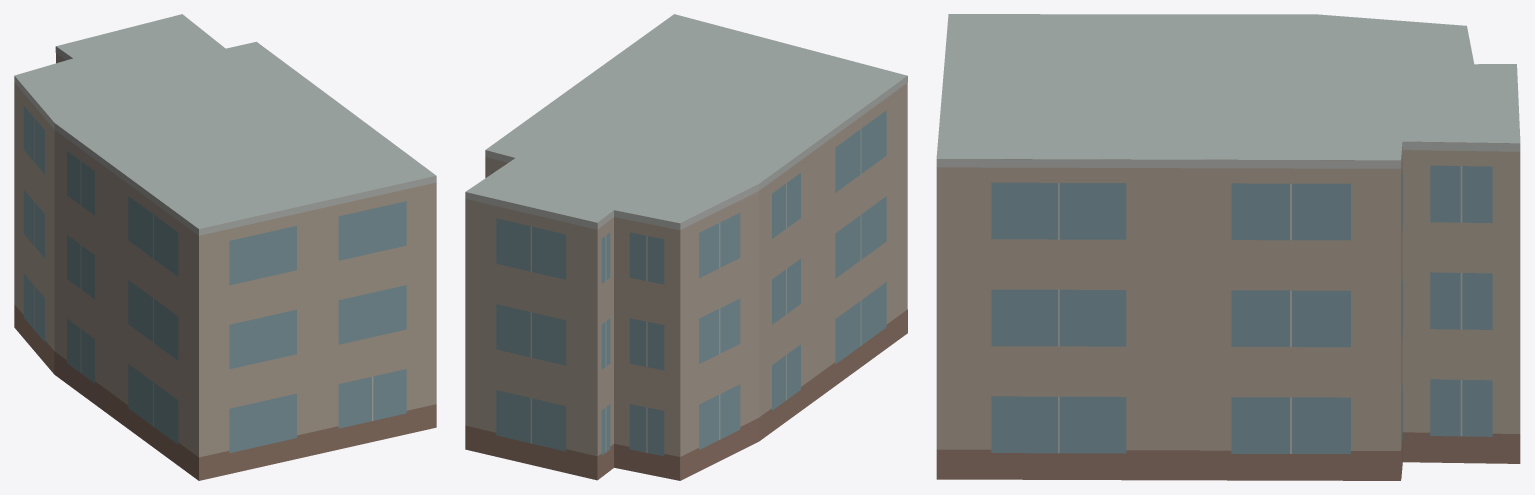
File: survey-upis-32834221.glb
The picture shows the model from 3 angles, left to right: view 1: azimuth 30°, elevation 25°; view 2: azimuth 150°, elevation 25°; view 3: azimuth 270°, elevation 25°; orthographic projection. The views are drawn at different scales.
Parts seen in each view (by area): view 1: survey-upis-32834221.tmp; view 2: survey-upis-32834221.tmp; view 3: survey-upis-32834221.tmp.
Part boxes in pixels (left/top/right/bottom): survey-upis-32834221.tmp: left=14, top=14, right=436, bottom=480; survey-upis-32834221.tmp: left=465, top=14, right=907, bottom=480; survey-upis-32834221.tmp: left=936, top=14, right=1520, bottom=480.
Bounding box in the file's own units: 8.96 × 9.15 × 15.12.
